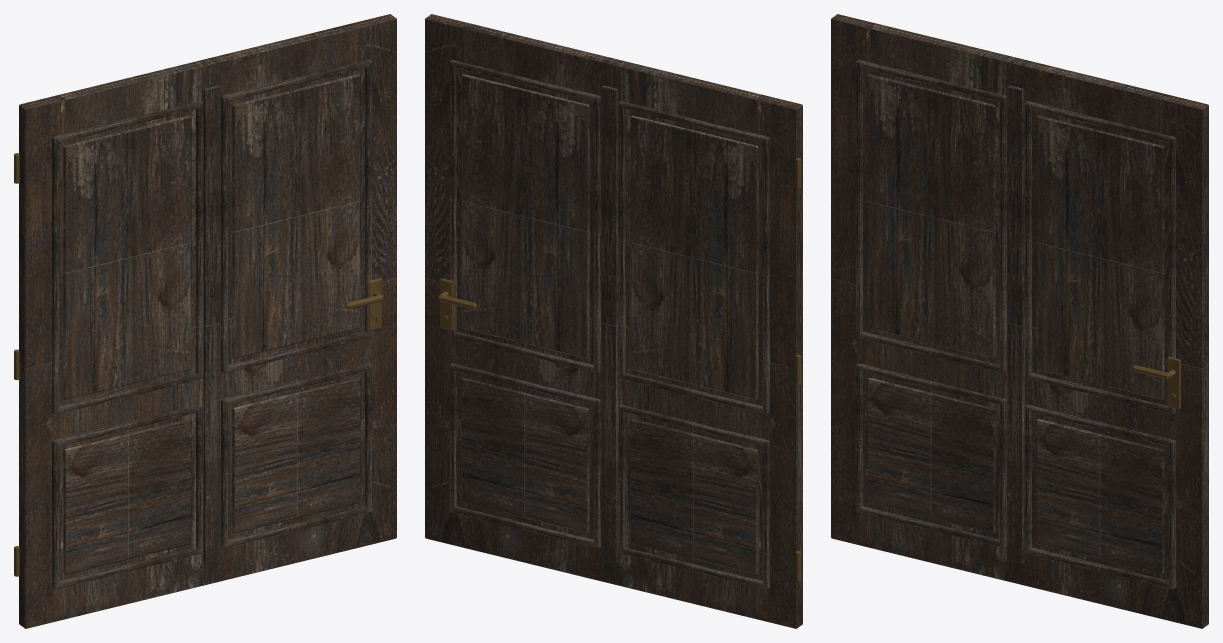
The model's file is Door.fbx.
The picture shows the model from 3 angles, left to right: view 1: azimuth 30°, elevation 25°; view 2: azimuth 150°, elevation 25°; view 3: azimuth 330°, elevation 25°; orthographic projection.
Parts seen in each view (by area): view 1: EXPORT_Door; view 2: EXPORT_Door; view 3: EXPORT_Door.
Part boxes in pixels (box(x1,y1,x2,y2)): EXPORT_Door: box(14, 14, 396, 628); EXPORT_Door: box(425, 14, 802, 628); EXPORT_Door: box(831, 14, 1208, 628).
Size of the model in its own units: 180 by 238 by 23.1.
Materials: 2 (2 with a texture image).
